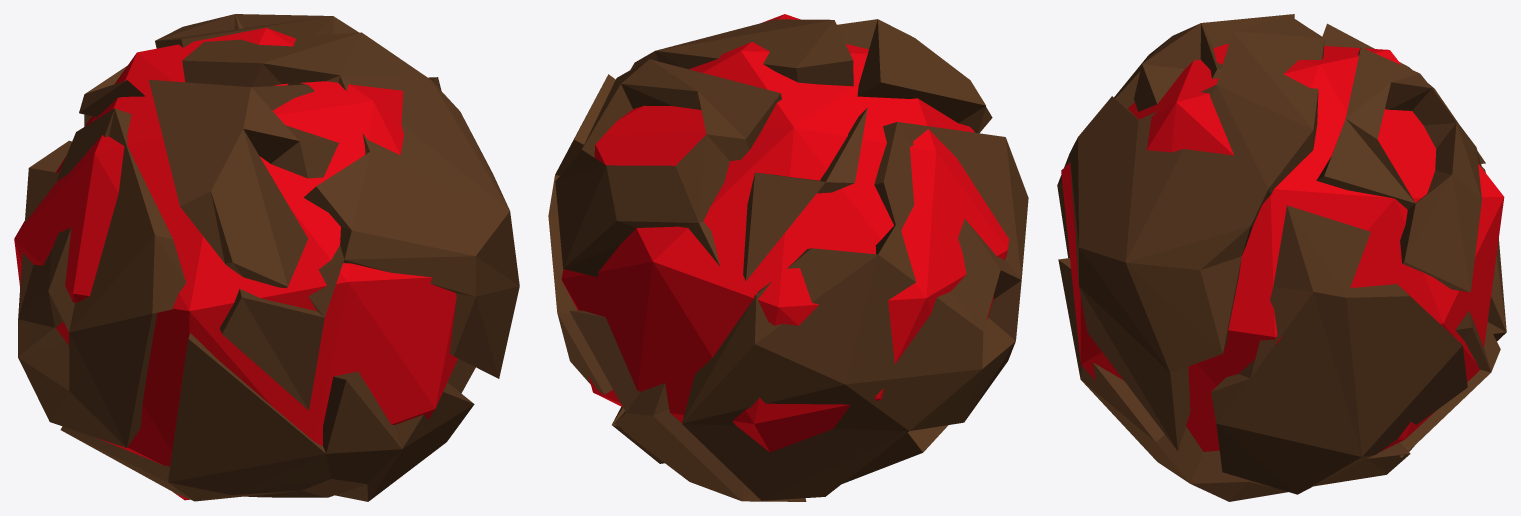
File: asteroid2.fbx
The picture shows the model from 3 angles, left to right: view 1: azimuth 30°, elevation 25°; view 2: azimuth 150°, elevation 25°; view 3: azimuth 270°, elevation 25°; orthographic projection. The views are drawn at different scales.
Parts seen in each view (by area): view 1: Asteroid_002; view 2: Asteroid_002; view 3: Asteroid_002.
Part boxes in pixels (x1,y1,x2,y2): Asteroid_002: [14, 14, 519, 501]; Asteroid_002: [548, 14, 1028, 501]; Asteroid_002: [1057, 14, 1506, 501].
Size of the model in its own units: 1.49 by 1.48 by 1.41.
